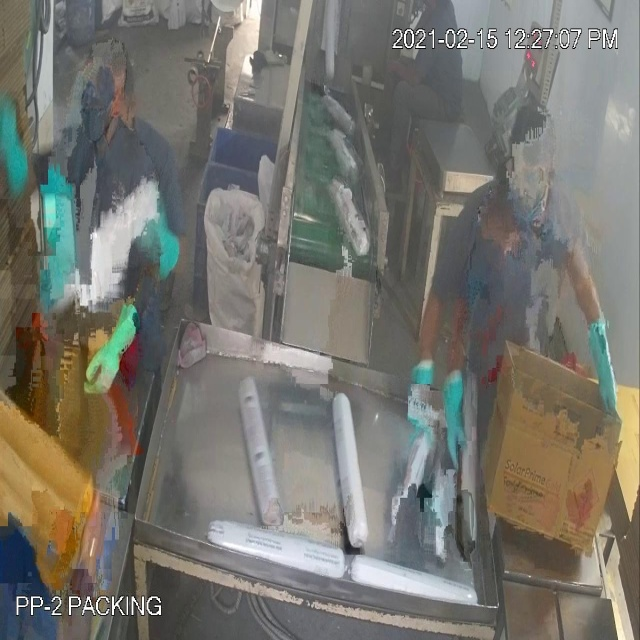Guantes: (76, 287, 148, 413), (583, 308, 626, 441), (443, 356, 468, 481)
Sin_guantes: (382, 47, 426, 97)
